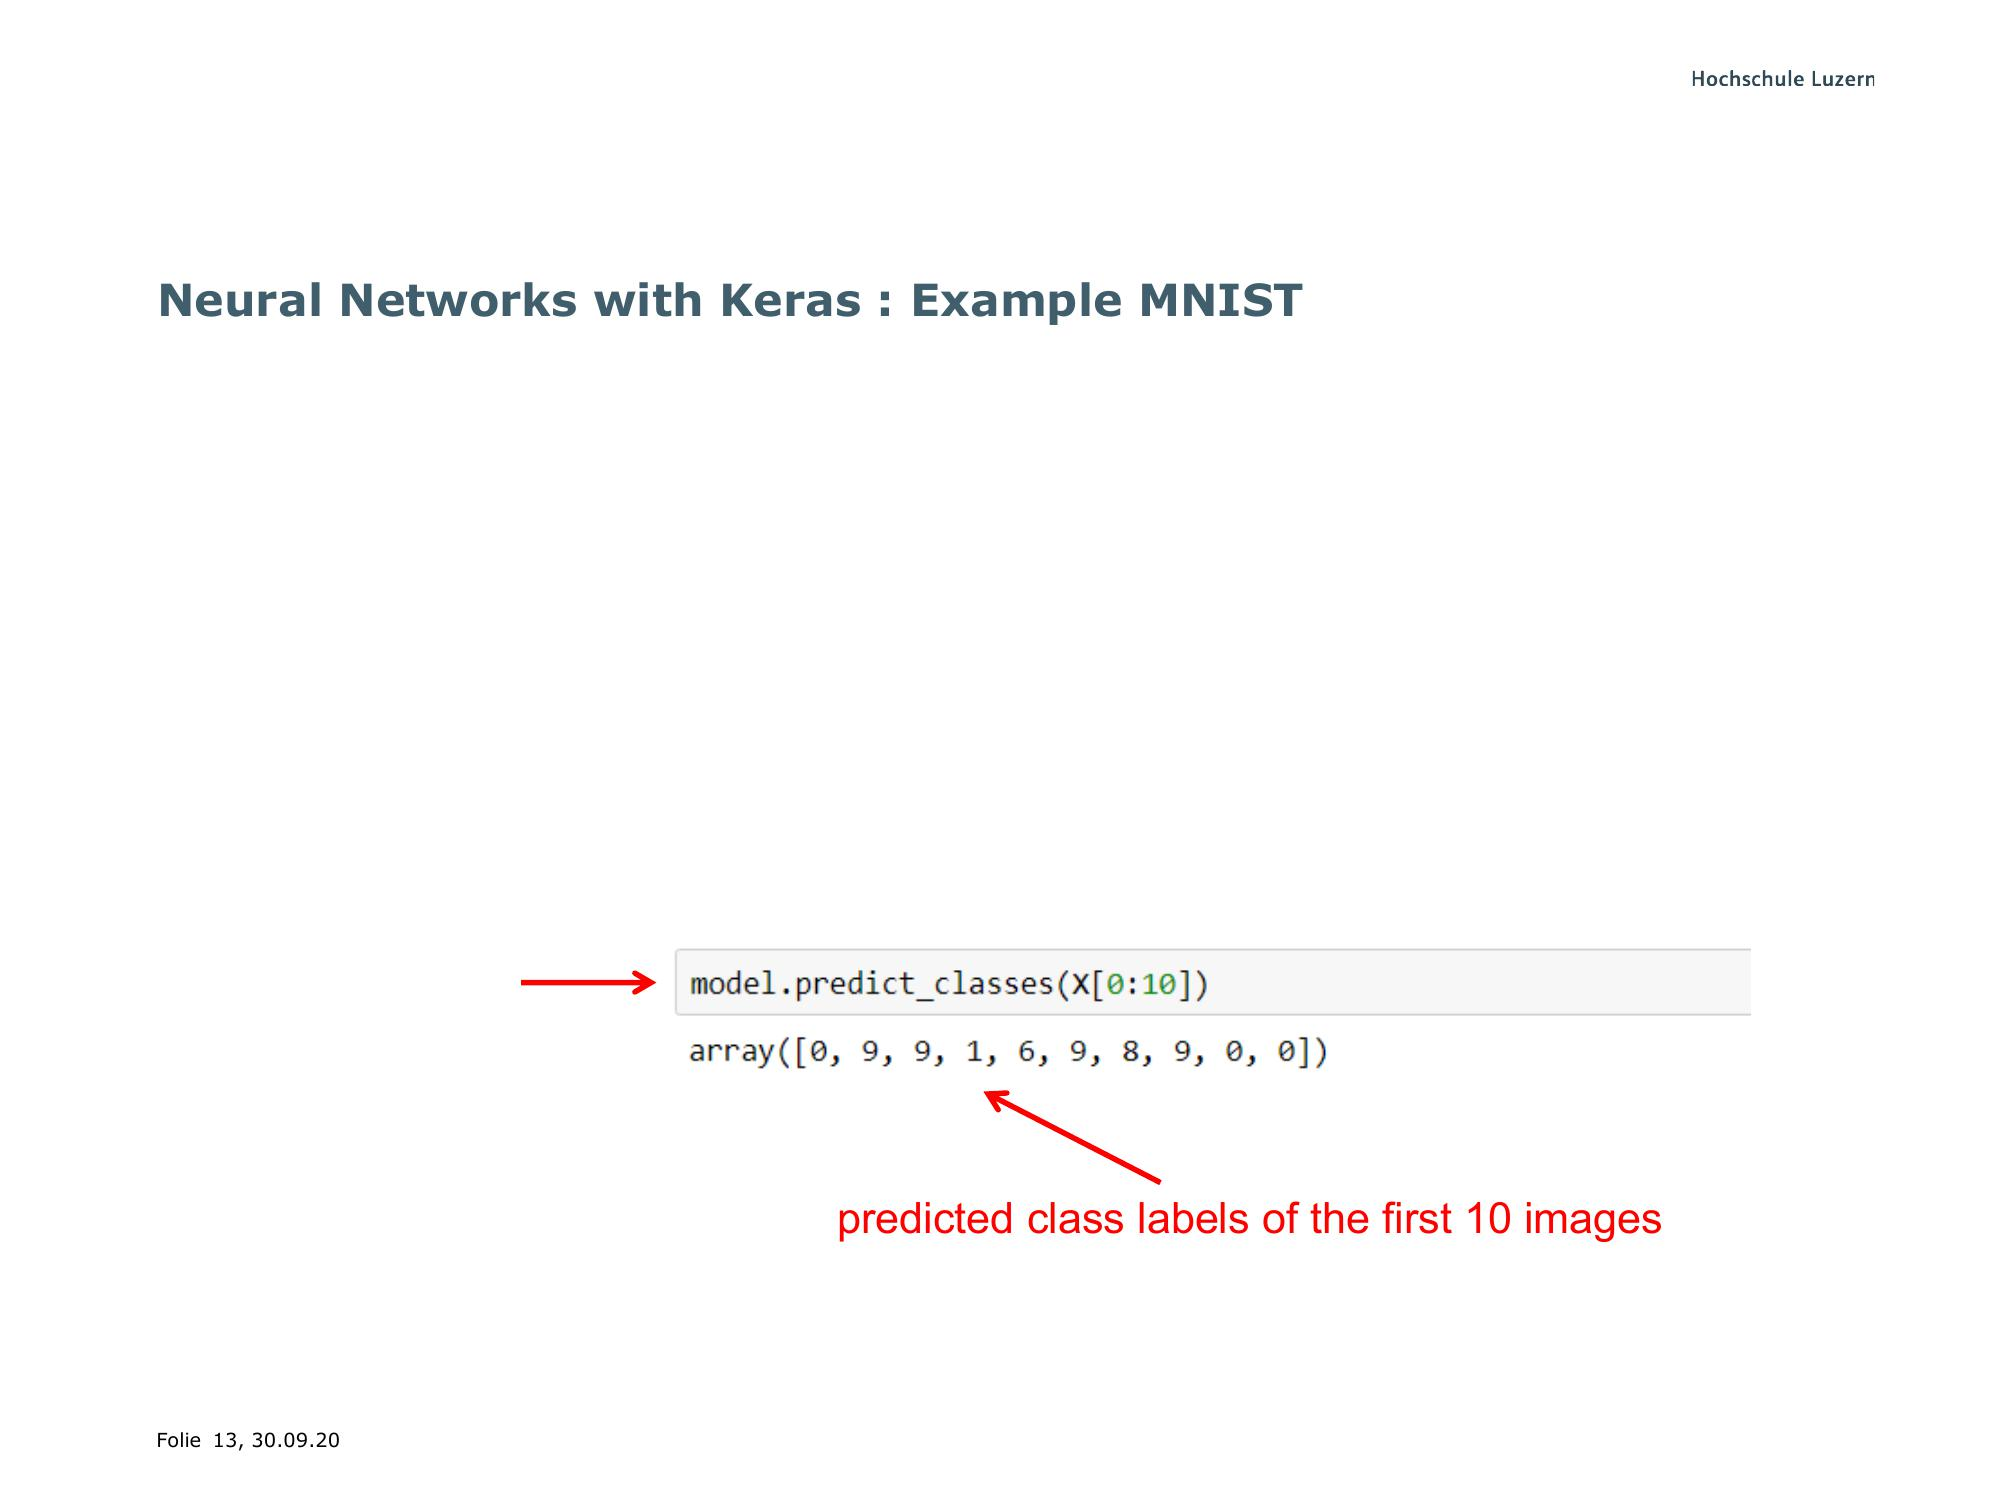Title: (135, 251, 1320, 347)
